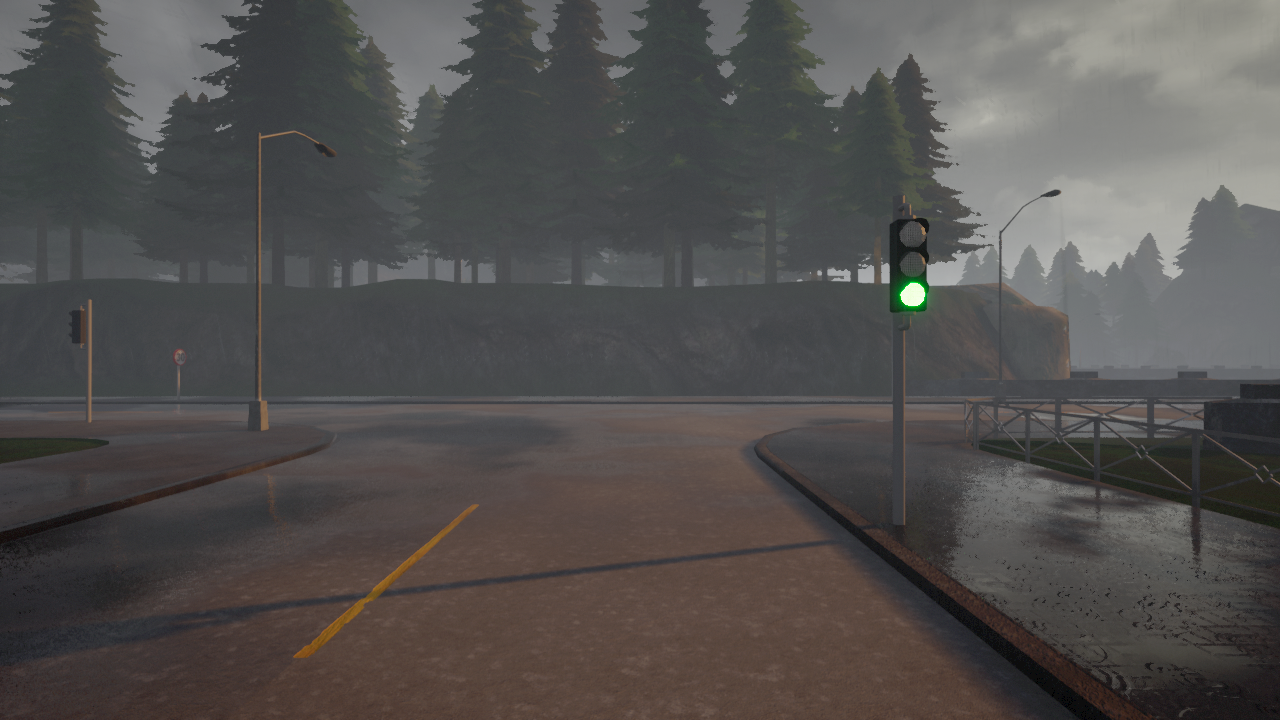green: (884, 213, 930, 313)
